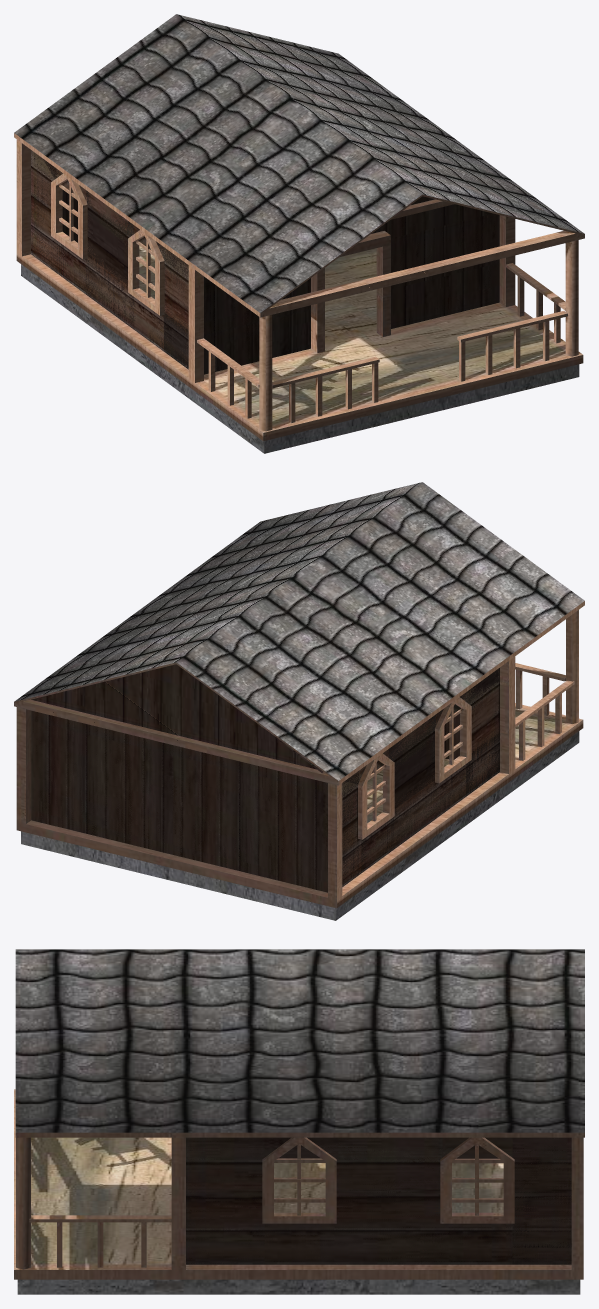
The model's file is Casarao.fbx.
The picture shows the model from 3 angles, top to bottom: view 1: azimuth 30°, elevation 25°; view 2: azimuth 150°, elevation 25°; view 3: azimuth 270°, elevation 25°; orthographic projection. The views are drawn at different scales.
Visible parts, largest first — view 1: Gom_Casarao_00; view 2: Gom_Casarao_00; view 3: Gom_Casarao_00.
Part boxes in pixels (x1=…): Gom_Casarao_00: x1=14, y1=14, x2=584, y2=453; Gom_Casarao_00: x1=14, y1=482, x2=584, y2=920; Gom_Casarao_00: x1=14, y1=949, x2=584, y2=1294.
Size of the model in its own units: 6.13 by 4 by 8.08.
